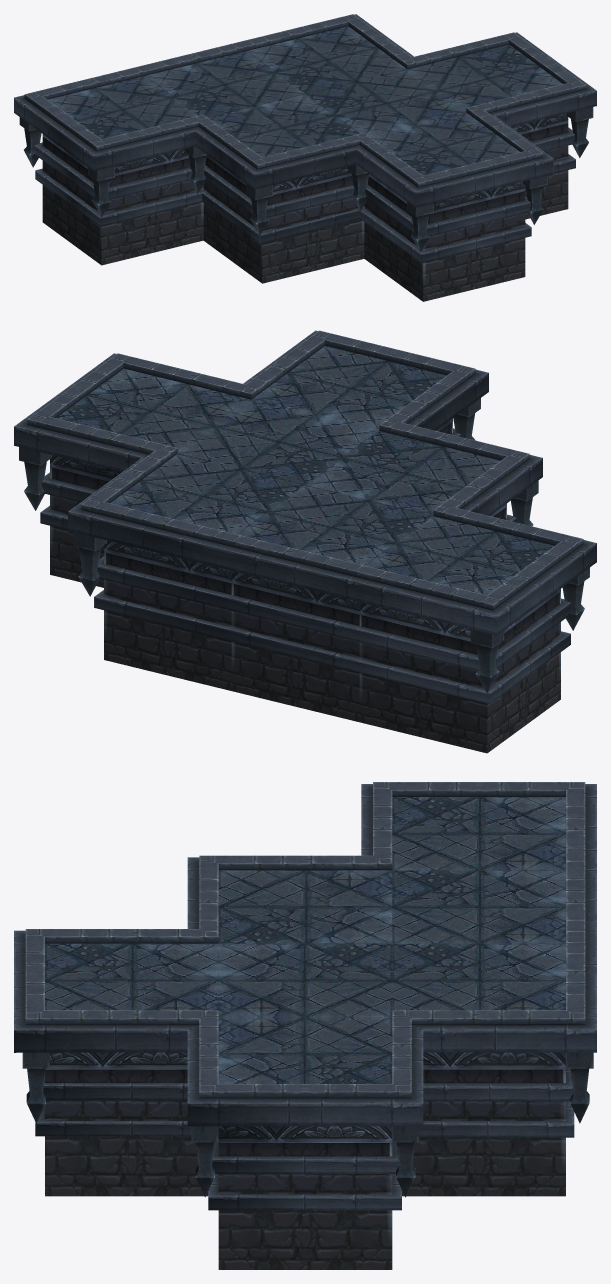
File: Ice_platform09.FBX
The picture shows the model from 3 angles, top to bottom: view 1: azimuth 30°, elevation 25°; view 2: azimuth 150°, elevation 25°; view 3: azimuth 270°, elevation 25°; orthographic projection. The views are drawn at different scales.
Parts seen in each view (by area): view 1: Group009; view 2: Group009; view 3: Group009.
Boxes of the visible parts, bbox=[...] form: Group009: bbox=[14, 14, 596, 301]; Group009: bbox=[14, 330, 596, 753]; Group009: bbox=[14, 782, 596, 1269].
Size of the model in its own units: 1981 by 537 by 1527.
